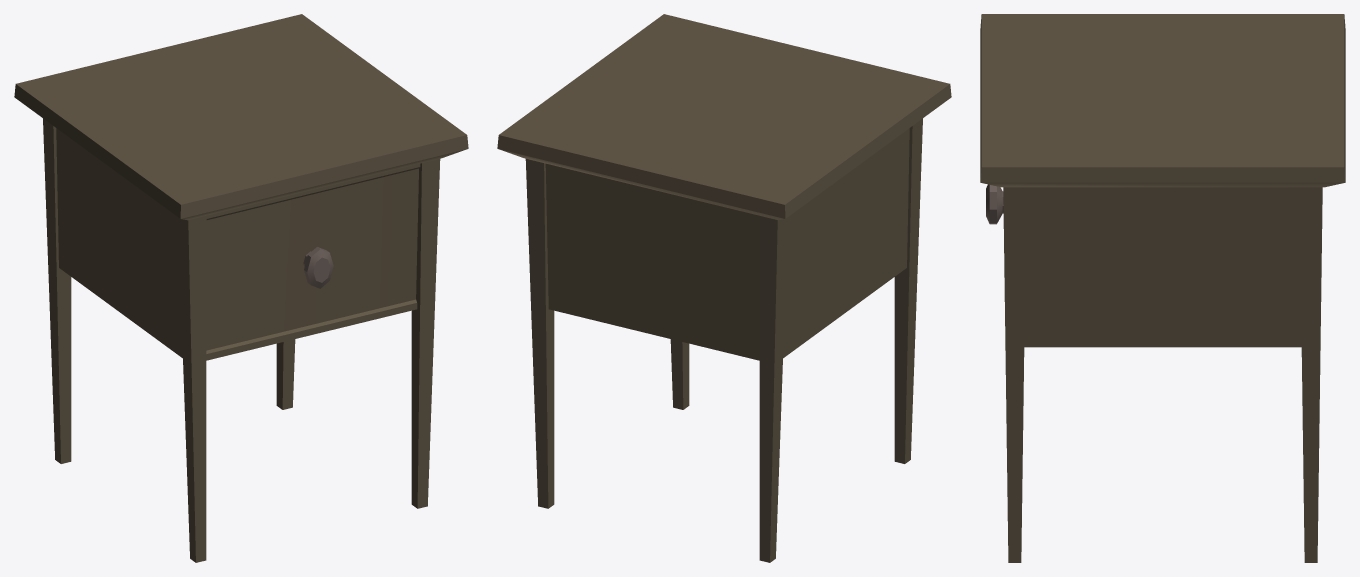
Rendered from side_table.glb.
The picture shows the model from 3 angles, left to right: view 1: azimuth 30°, elevation 25°; view 2: azimuth 150°, elevation 25°; view 3: azimuth 270°, elevation 25°; orthographic projection. The views are drawn at different scales.
Parts seen in each view (by area): view 1: side_table; view 2: side_table; view 3: side_table.
Boxes of the visible parts, box(x1,y1,x2,y2) form: side_table: box(14, 14, 468, 562); side_table: box(497, 14, 951, 562); side_table: box(980, 14, 1345, 562).
Size of the model in its own units: 0.5 by 0.62 by 0.5.
